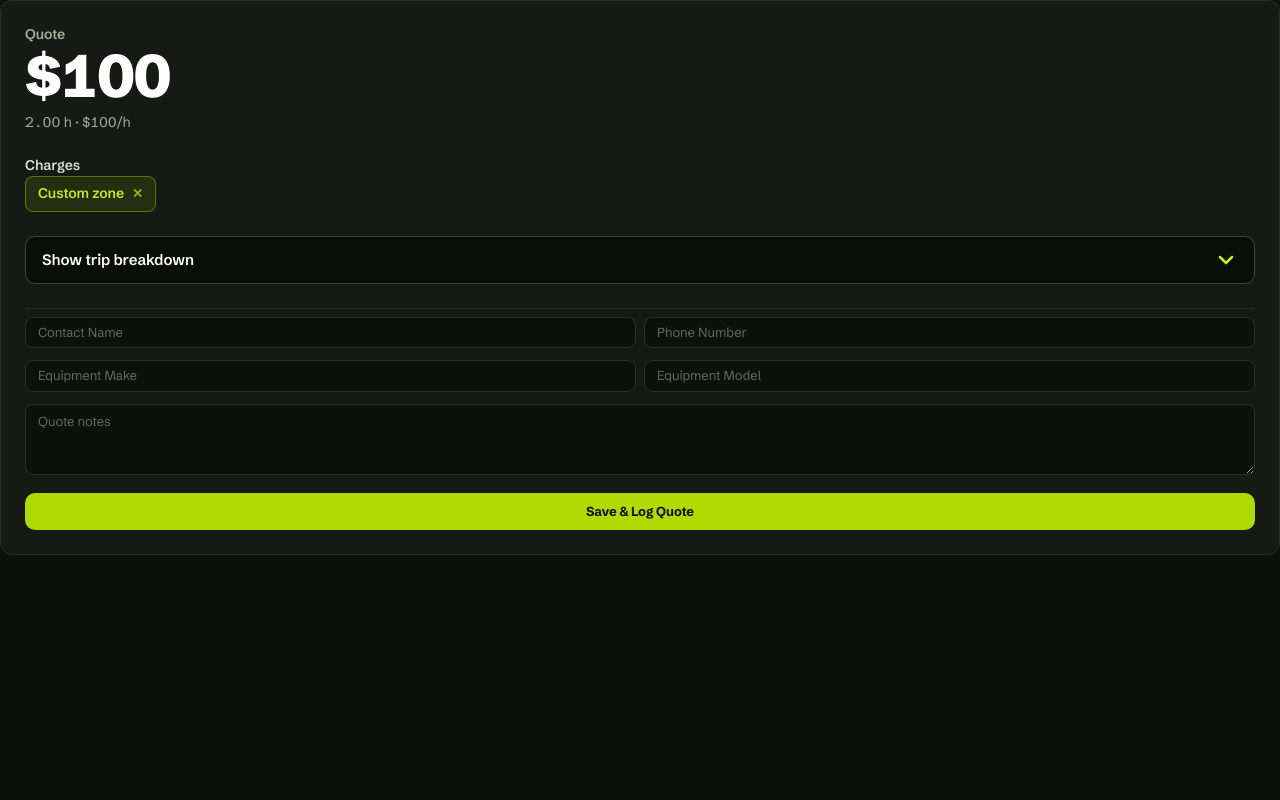
toggles custom zone flat_rate flat pricing off and back on
The width and height of the screenshot is (1280, 800).
Expected: the text "$100" is shown, [25,38,170,112]
Click the button "Custom zone ✕" at coordinates (90, 194), box [25,176,156,212]
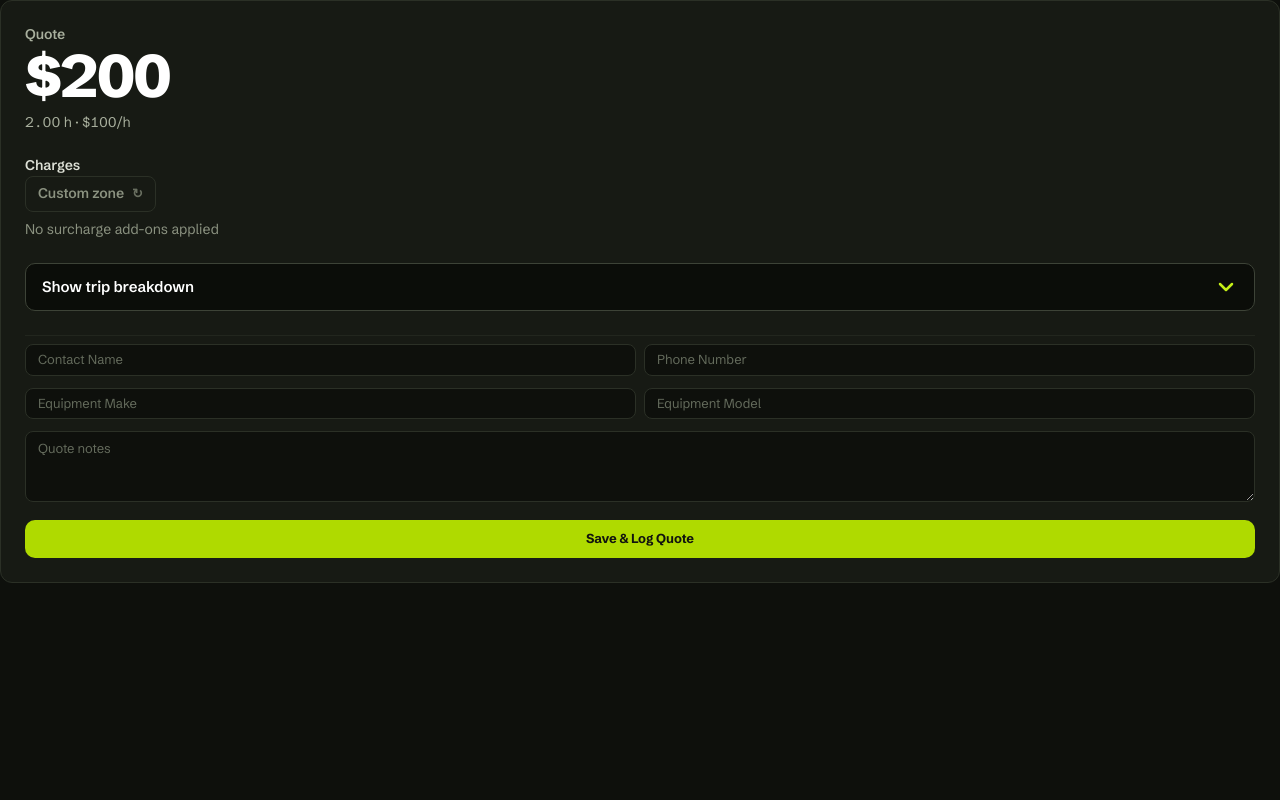
Expected: the text "$200" is shown, [25,38,170,112]
Click the button "Custom zone ↻" at coordinates (90, 194), box [25,176,156,212]
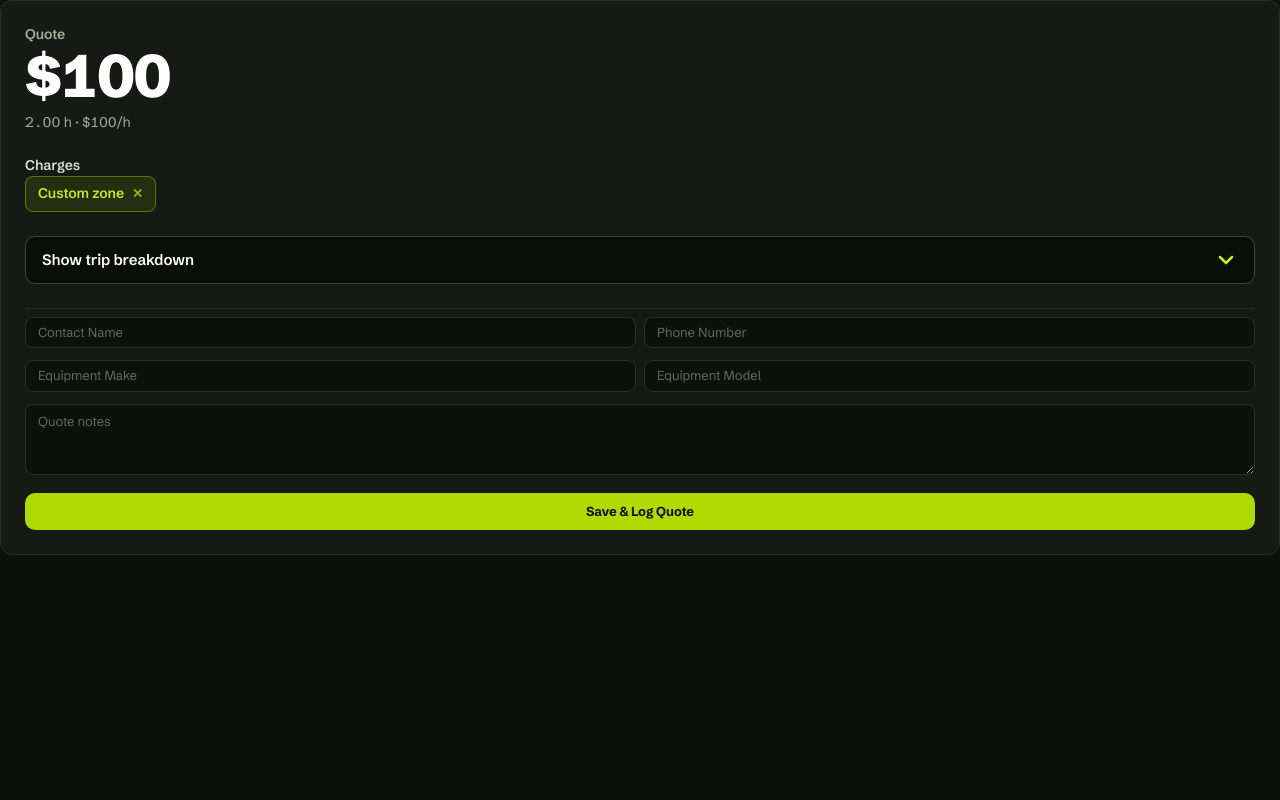
Expected: the text "$100" is shown, [25,38,170,112]
